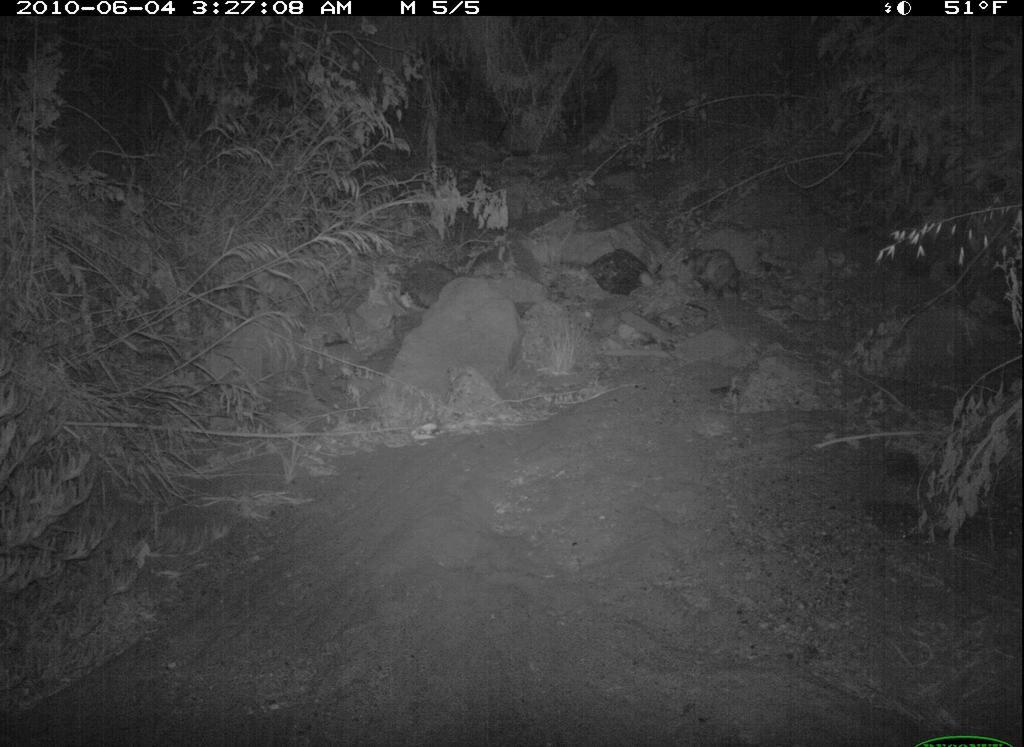opossum: (687, 237, 756, 313)
